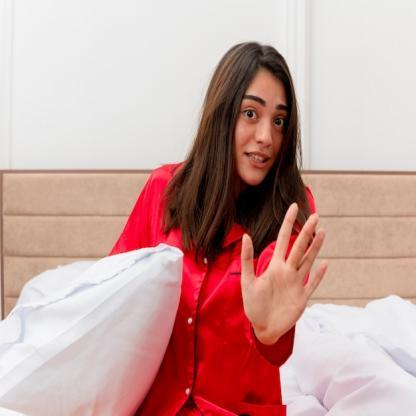stop: (237, 196, 330, 348)
